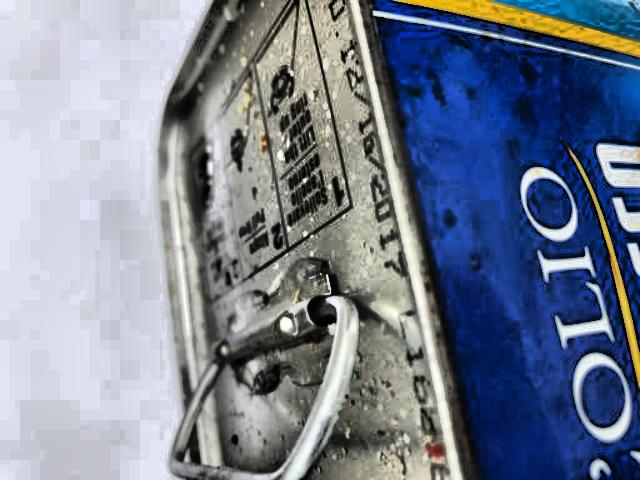Almennt: (125, 2, 640, 480)
